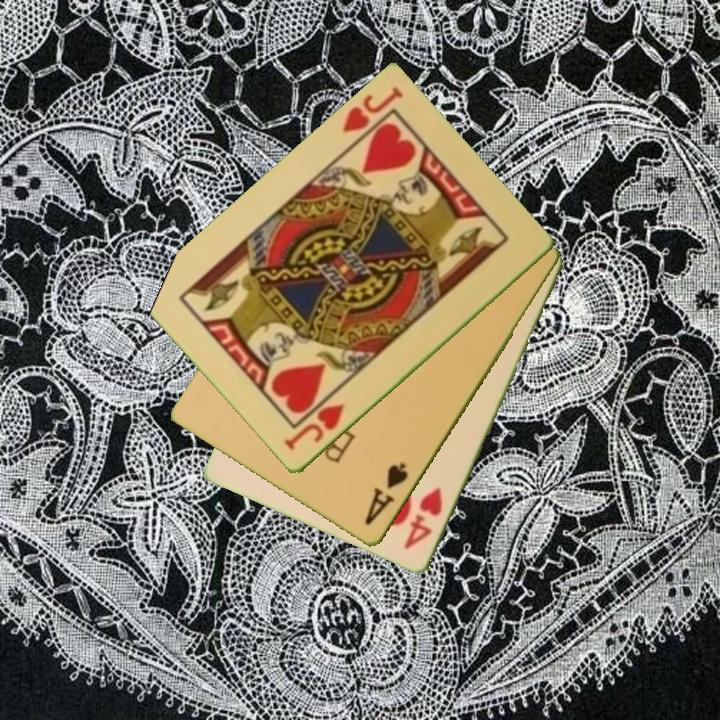4h: (400, 485, 446, 553)
As: (361, 459, 412, 530)
Jh: (280, 400, 348, 454), (338, 83, 406, 137)
